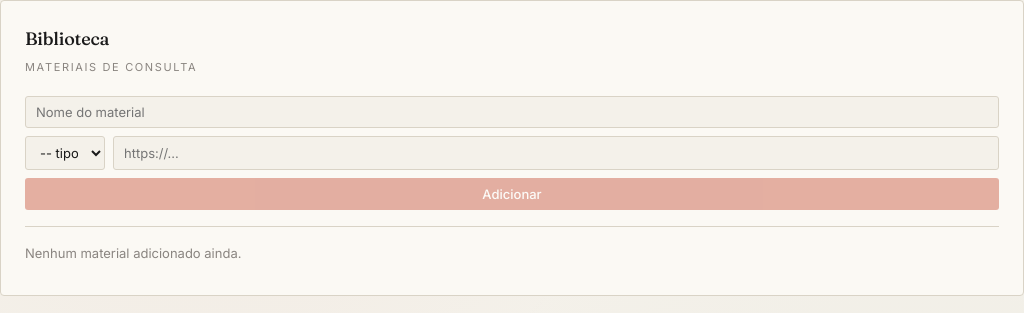
Test: Biblioteca › form › should enable submit button when all fields are valid
Type "Guia Prático" into the field with test id "input-nome-material" at (512, 112), box [25,96,999,128]
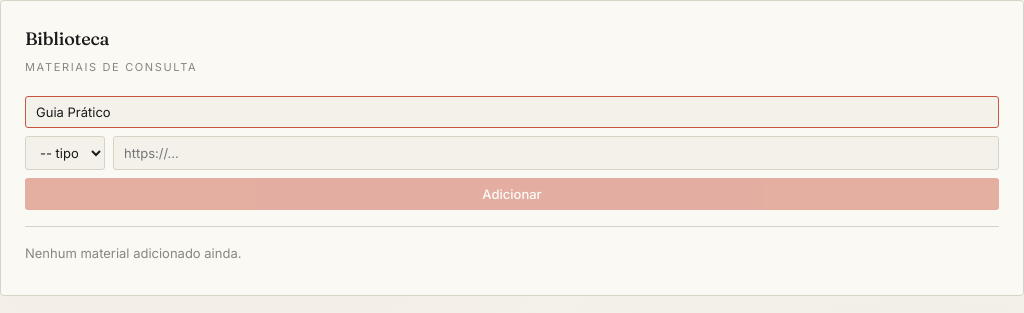
Select "PDF" in the dropdown with test id "sel-tipo-material" at (65, 153), box [25,136,105,170]
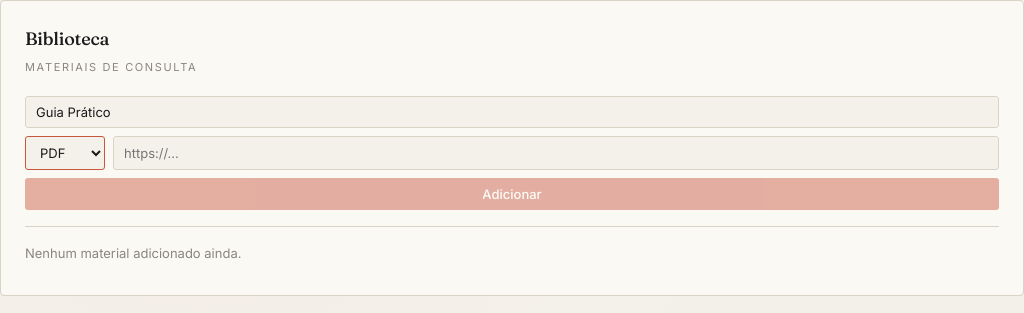
Type "https://exemplo.com/guia.pdf" into the field with test id "input-url-material" at (556, 153), box [113,136,999,170]
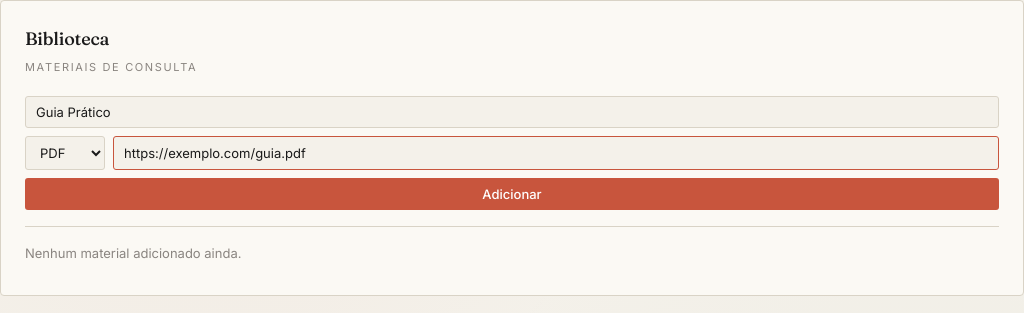
Check: the button with test id "btn-submit-material" is enabled, box [25,178,999,210]
